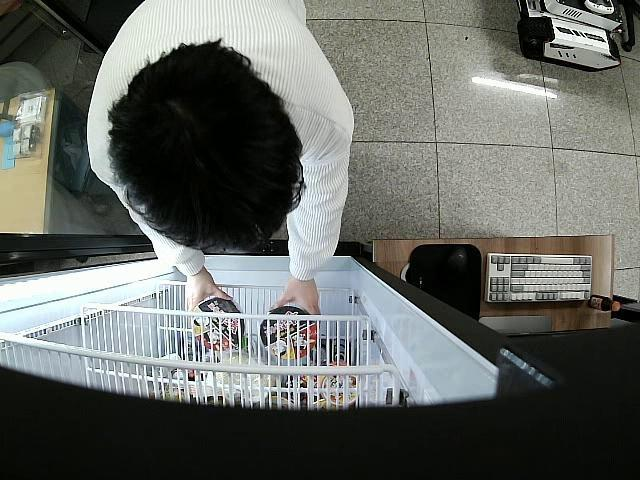07_buldak_L: (190, 295, 244, 351), (260, 308, 317, 358)
